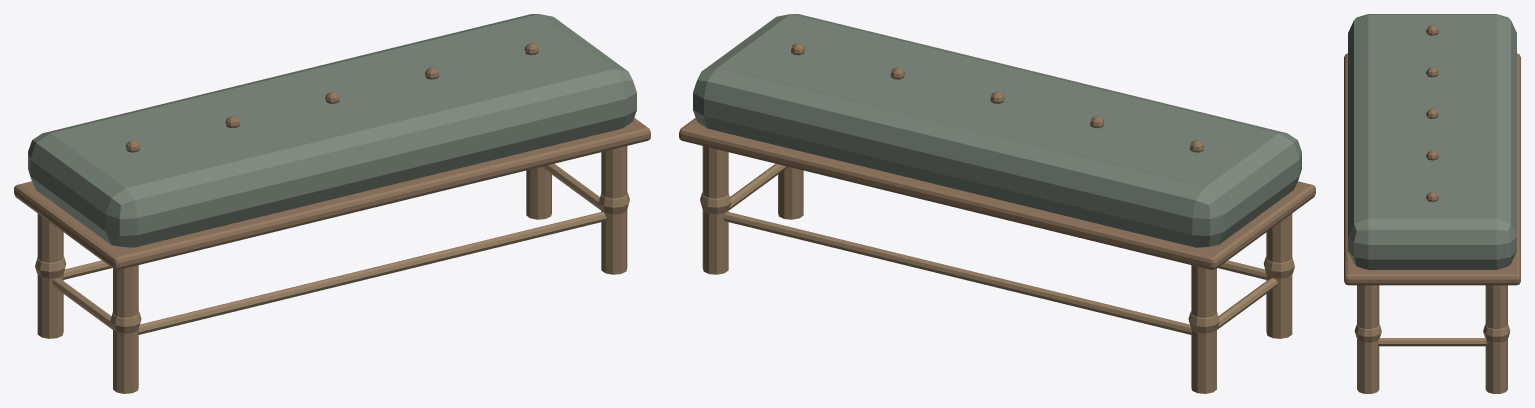
3 views of the same model, side by side, from view 1: azimuth 30°, elevation 25°; view 2: azimuth 150°, elevation 25°; view 3: azimuth 270°, elevation 25° (orthographic). The views are drawn at different scales.
Parts seen in each view (by area): view 1: bedBench; view 2: bedBench; view 3: bedBench.
Boxes of the visible parts, left/top/right/bottom form: bedBench: left=14, top=14, right=650, bottom=393; bedBench: left=679, top=14, right=1315, bottom=393; bedBench: left=1344, top=14, right=1520, bottom=393.
Bounding box in the file's own units: 1.32 × 0.491 × 0.44.
